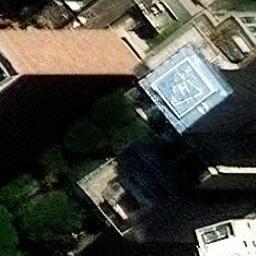heliponto: (153, 58, 214, 117)
